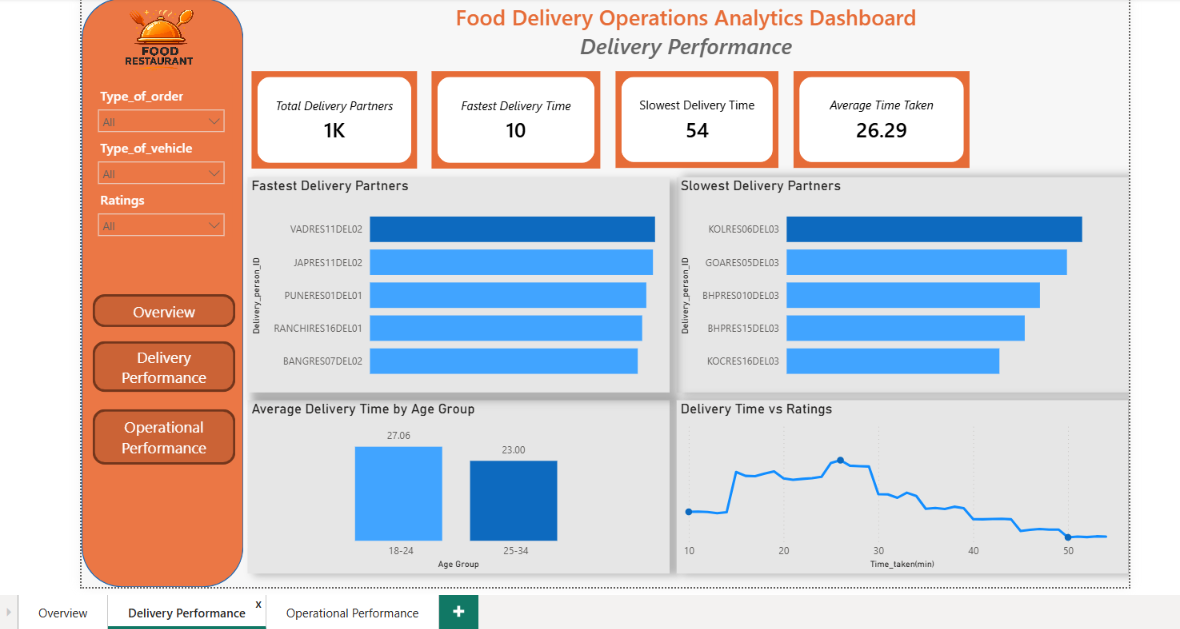

What the dashboard file says about the page in this screenshot:
{"tool":"powerbi","page":{"name":"Delivery Performance","canvas":[1280,720],"ordinal":1},"visuals":[{"type":"shape","box":[0,0,197.9,720.2],"z":0},{"type":"slicer","fields":{"Values":["Food_delivery_time_data.Type_of_order"]},"box":[10.1,102.4,174.6,63.5],"z":0,"group":"g1"},{"type":"textbox","box":[198.1,0,1082.2,88],"z":1000},{"type":"slicer","fields":{"Values":["Food_delivery_time_data.Type_of_vehicle"]},"box":[10.1,165.9,174.6,63.5],"z":1000,"group":"g1"},{"type":"cardVisual","fields":{"Data":["Food_delivery_time_data.Slowest Delivery Time"]},"box":[648.1,84.4,209.1,128.4],"z":2000},{"type":"slicer","fields":{"Values":["Food_delivery_time_data.Delivery_person_Ratings"]},"box":[10.1,229.4,174.6,63.5],"z":2000,"group":"g1"},{"type":"cardVisual","fields":{"Data":["Food_delivery_time_data.Total Delivery Partners"]},"box":[203,84.4,212.8,129.6],"z":3000},{"type":"cardVisual","fields":{"Data":["Food_delivery_time_data.Fastest Delivery Time"]},"box":[423.1,84.4,216.4,129.6],"z":4000},{"type":"cardVisual","fields":{"Data":["Food_delivery_time_data.Average Time Taken"]},"box":[865.8,84.4,225,128.4],"z":6000},{"type":"clusteredBarChart","title":"Slowest Delivery Partners","fields":{"Category":["Food_delivery_time_data.Delivery_person_ID"],"Y":["Sum(Food_delivery_time_data.Time_taken(min))"]},"box":[727.6,218.9,552.7,262.9],"z":7000},{"type":"columnChart","title":"Average Delivery Time by Age Group","fields":{"Category":["Food_delivery_time_data.Age Group"],"Y":["Avg(Food_delivery_time_data.Time_taken(min))"]},"box":[203.4,492.1,516.3,211.9],"z":9000},{"type":"barChart","title":"Fastest Delivery Partners","fields":{"Category":["Food_delivery_time_data.Delivery_person_ID"],"Y":["Sum(Food_delivery_time_data.Time_taken(min))"]},"box":[203,218.9,516,262.9],"z":10000},{"type":"lineChart","title":"Delivery Time vs Ratings","fields":{"Category":["Food_delivery_time_data.Time_taken(min)"],"Y":["CountNonNull(Food_delivery_time_data.Delivery_person_Ratings)"]},"box":[728.2,492.1,551.8,211.9],"z":11000},{"type":"group","id":"g1","title":"Group 1","box":[10.1,102.4,174.6,190.4],"z":12000},{"type":"actionButton","box":[13,362.1,174.6,40.4],"z":13000},{"type":"actionButton","box":[13,419.8,174.6,62],"z":14000},{"type":"actionButton","box":[13,502.1,174.6,67.8],"z":15000},{"type":"image","box":[31.7,14.4,131.3,73.6],"z":16000}]}

Visuals, with their boxes on the page's 1280x720 design canvas (x1, y1, x2, y2). These are canvas units, not pixel positions in the 1180x629 screenshot, which may show the page scaled, cropped or inside an application window:
shape: 0 0 198 720
slicer - Food_delivery_time_data.Type_of_order: 10 102 185 166
textbox: 198 0 1280 88
slicer - Food_delivery_time_data.Type_of_vehicle: 10 166 185 229
cardVisual - Food_delivery_time_data.Slowest Delivery Time: 648 84 857 213
slicer - Food_delivery_time_data.Delivery_person_Ratings: 10 229 185 293
cardVisual - Food_delivery_time_data.Total Delivery Partners: 203 84 416 214
cardVisual - Food_delivery_time_data.Fastest Delivery Time: 423 84 640 214
cardVisual - Food_delivery_time_data.Average Time Taken: 866 84 1091 213
"Slowest Delivery Partners" clusteredBarChart: 728 219 1280 482
"Average Delivery Time by Age Group" columnChart: 203 492 720 704
"Fastest Delivery Partners" barChart: 203 219 719 482
"Delivery Time vs Ratings" lineChart: 728 492 1280 704
"Group 1" group: 10 102 185 293
actionButton: 13 362 188 402
actionButton: 13 420 188 482
actionButton: 13 502 188 570
image: 32 14 163 88
